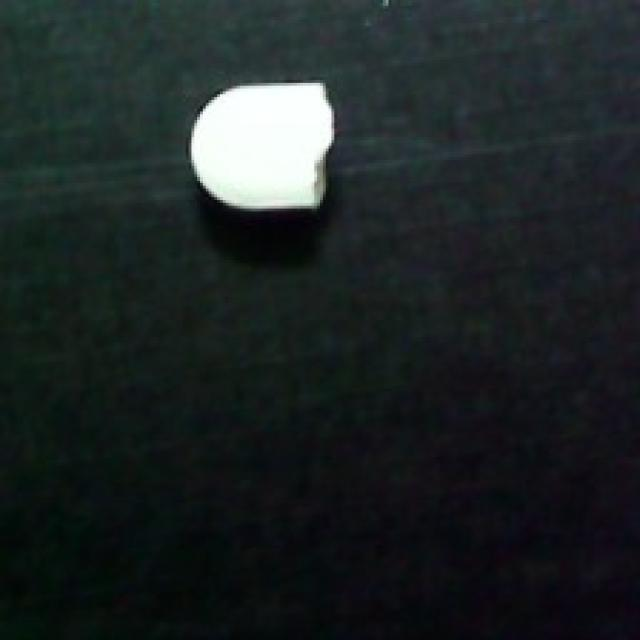defected: (183, 63, 337, 226)
